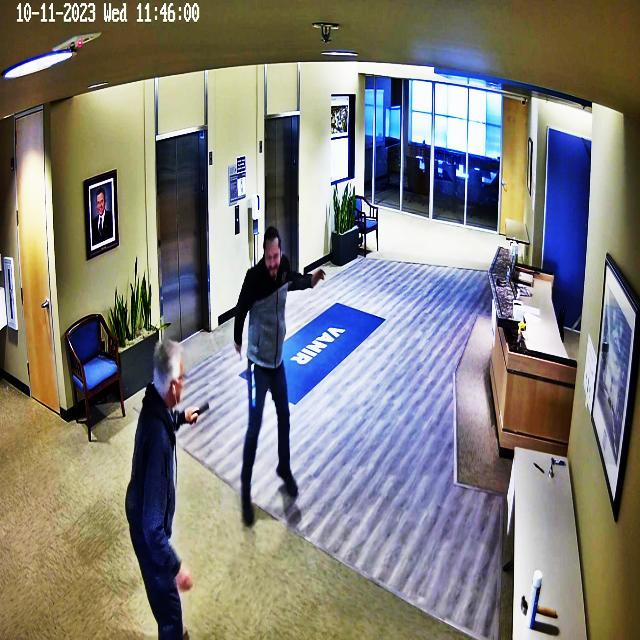Knife: (183, 391, 234, 431)
